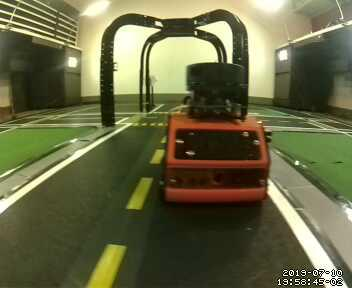pheeno: (162, 59, 279, 210)
